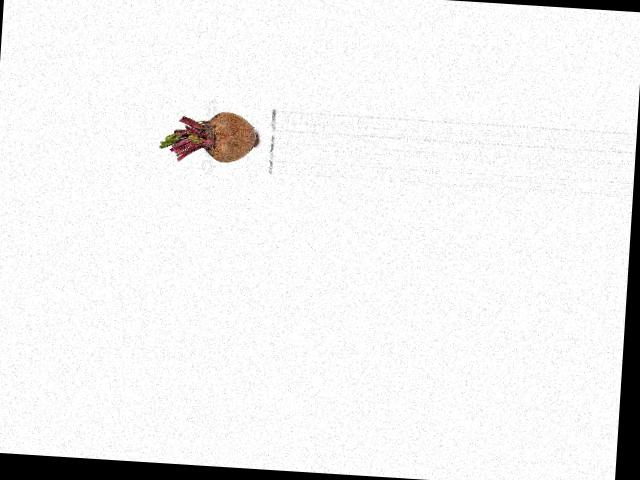beet: (159, 107, 260, 165)
